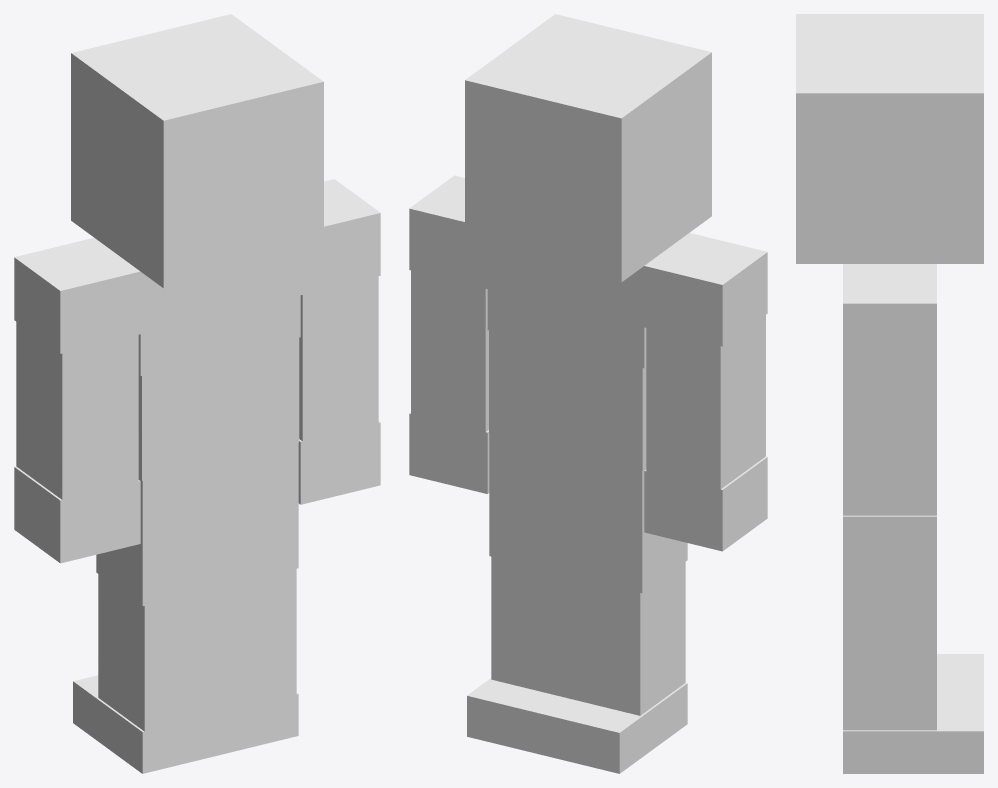
Rendered from kaizencraftmale.glb.
3 renders of one model, left to right at view 1: azimuth 30°, elevation 25°; view 2: azimuth 150°, elevation 25°; view 3: azimuth 270°, elevation 25°, orthographic. The views are drawn at different scales.
Visible parts, largest first — view 1: Head, Left Arm (×3), Body (×3), Left Leg (×3), Right Arm (×3), Right Leg (×3); view 2: Head, Left Arm (×3), Body (×3), Left Leg (×3), Right Arm (×3), Right Leg (×3); view 3: Head, Right Arm (×3), Right Leg (×3), Left Leg.
Part boxes in pixels (box(x1,y1,x2,y2)): Head: box(71, 14, 323, 288); Left Arm (×3): box(14, 238, 140, 563); Body (×3): box(138, 255, 300, 522); Left Leg (×3): box(73, 504, 222, 773); Right Arm (×3): box(298, 179, 380, 504); Right Leg (×3): box(218, 484, 298, 755); Head: box(465, 14, 711, 282); Left Arm (×3): box(644, 233, 767, 551); Body (×3): box(487, 250, 646, 511); Left Leg (×3): box(541, 492, 687, 773); Right Arm (×3): box(409, 175, 489, 493); Right Leg (×3): box(467, 474, 567, 755); Head: box(796, 14, 983, 263); Right Arm (×3): box(843, 264, 936, 580); Right Leg (×3): box(843, 580, 983, 773); Left Leg: box(937, 654, 983, 691).
Bounding box in the file's own units: 1 × 2 × 0.5.
Materials: 1 (1 with a texture image).
